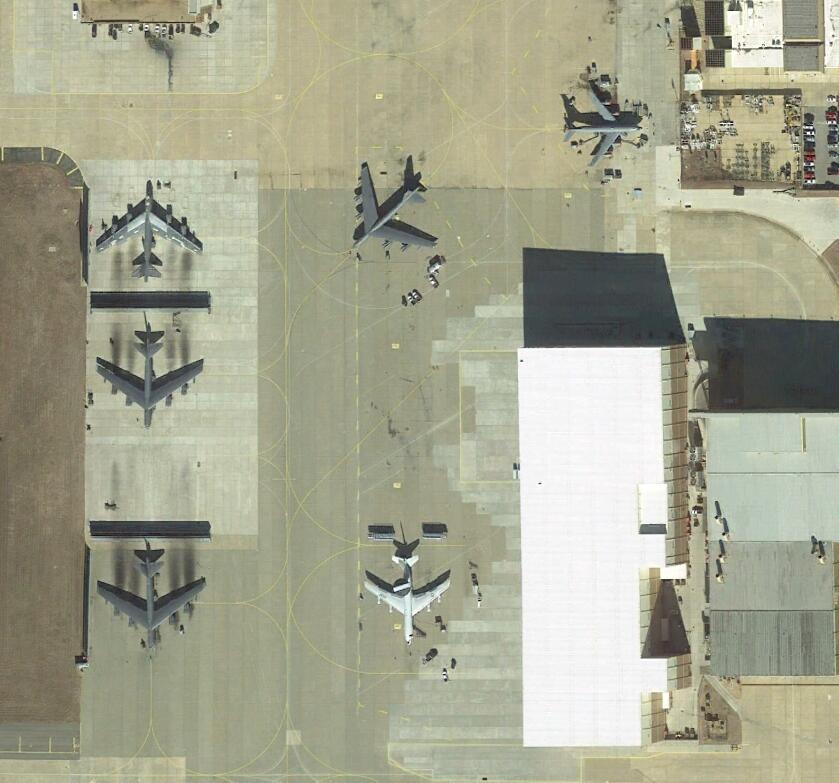A14: (561, 87, 643, 170)
A7: (364, 552, 454, 647)
A8: (96, 556, 206, 655), (94, 337, 205, 431), (97, 190, 206, 280), (347, 161, 436, 250)
